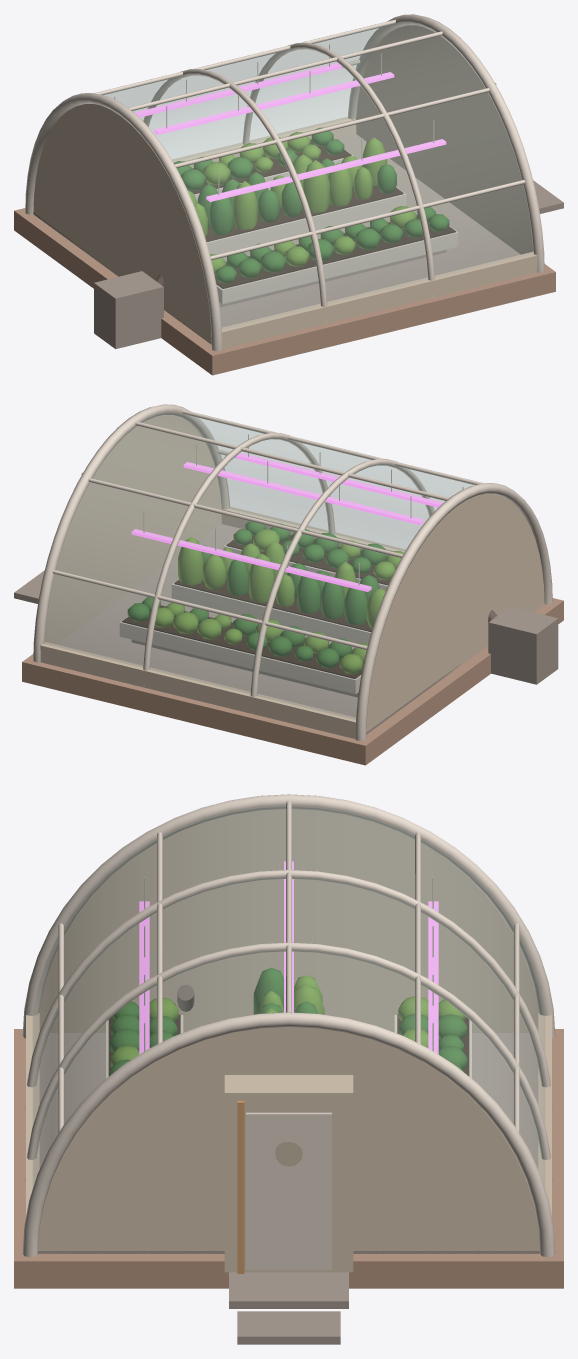
File: A01_arched_greenhouse_6m.glb
3 renders of one model, top to bottom at view 1: azimuth 30°, elevation 25°; view 2: azimuth 150°, elevation 25°; view 3: azimuth 270°, elevation 25°, orthographic. The views are drawn at different scales.
Parts seen in each view (by area): view 1: glazing, end_wall (×2), rib (×4), foundation, floor, base_wall (×2), plant (×12), bed_trough (×2), purlin (×4), airlock_porch, grow_light (×3), climate_unit (+3 smaller); view 2: glazing, end_wall (×2), rib (×4), foundation, floor, base_wall (×2), plant (×9), bed_trough (×2), purlin (×4), climate_unit, grow_light (×3), airlock_porch (+3 smaller); view 3: end_wall (×2), glazing, rib (×4), foundation, airlock_door, airlock_porch, floor, step (×2), purlin (×5), base_wall (×2), grow_light (×2), A01_arched_greenhouse_6m (+1 smaller).
Part boxes in pixels (x1,y1,x2,y2): glazing: (103,22,533,329); end_wall (×2): (34,25,533,344); rib (×4): (25,14,544,351); foundation: (14,208,555,375); floor: (33,134,520,344); base_wall (×2): (33,116,537,348); plant (×12): (203,137,396,272); bed_trough (×2): (206,187,458,304); purlin (×4): (94,19,525,260); airlock_porch: (422,66,496,216); grow_light (×3): (134,63,446,201); climate_unit: (94,271,163,349); glazing: (44,412,474,719); end_wall (×2): (44,415,544,732); rib (×4): (33,404,552,741); foundation: (22,598,563,765); floor: (57,524,462,734); base_wall (×2): (40,506,405,738); plant (×9): (173,537,367,633); bed_trough (×2): (119,579,371,694); purlin (×4): (52,409,483,650); climate_unit: (488,606,558,684); grow_light (×3): (131,453,443,591); airlock_porch: (81,446,155,602); end_wall (×2): (38,809,539,1253); glazing: (33,806,544,1186); rib (×4): (22,794,555,1257); foundation: (14,1029,563,1288); airlock_door: (246,1112,331,1269); airlock_porch: (224,1075,353,1272); floor: (38,1033,539,1253); step (×2): (229,1272,348,1344); purlin (×5): (58,801,519,1133); base_wall (×2): (26,1013,551,1250); grow_light (×2): (139,901,438,1054); A01_arched_greenhouse_6m: (237,1101,244,1273).
Size of the model in its own units: 8.9 by 3.45 by 6.4.
